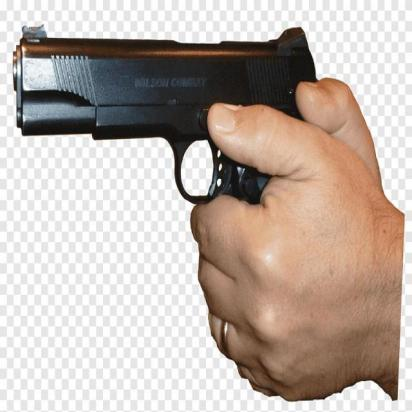Gun: (9, 13, 343, 406)
